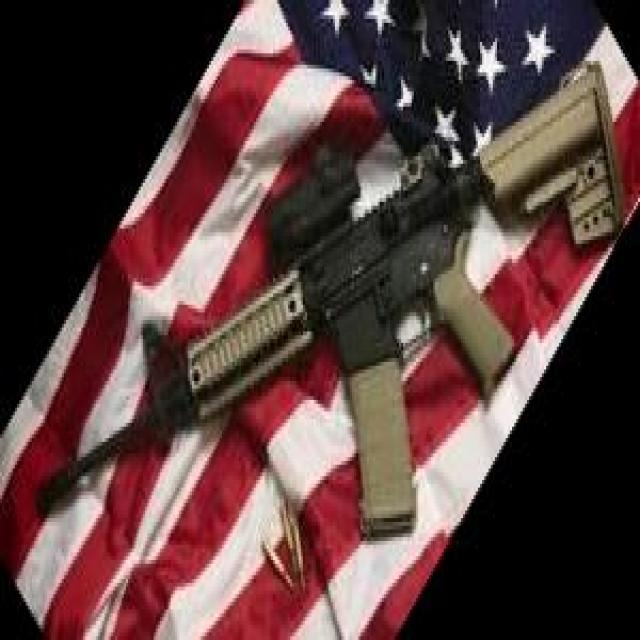weapon: (36, 58, 624, 544)
